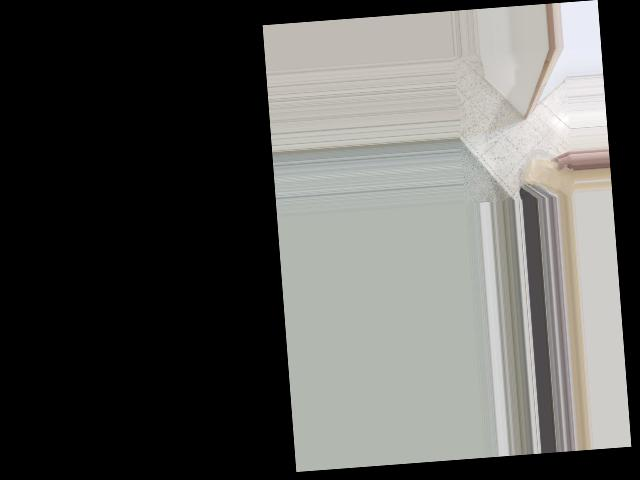cheese: (518, 147, 576, 200)
